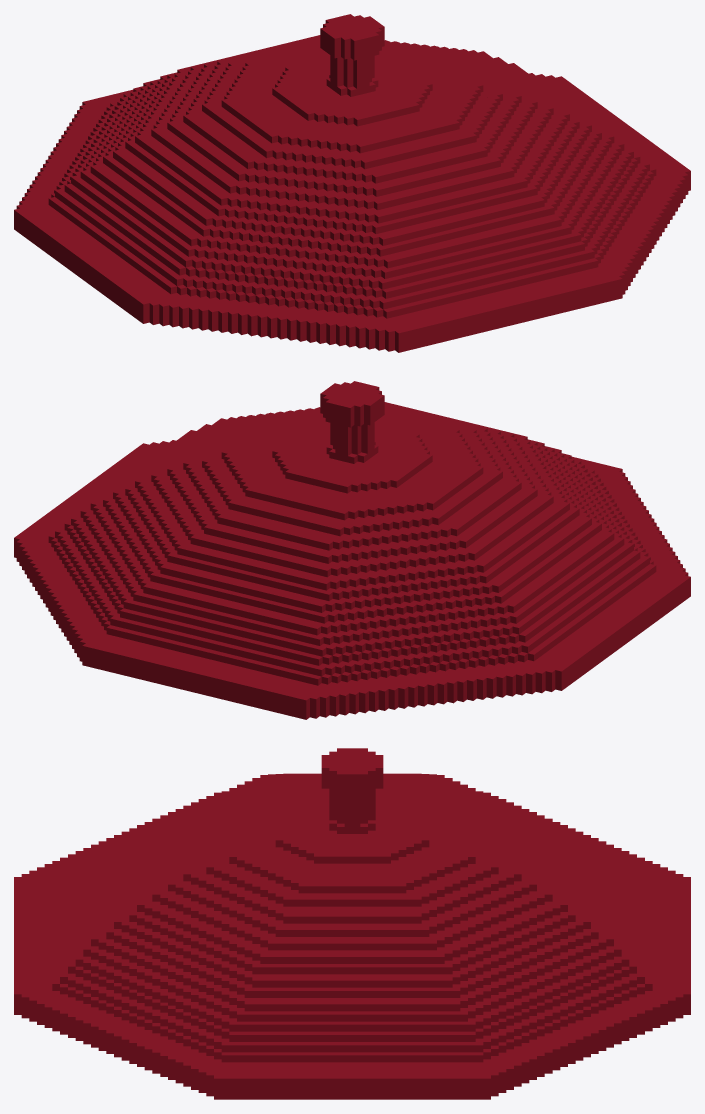
Rendered from zucchetto.glb.
3 views of the same model, one above another, from view 1: azimuth 30°, elevation 25°; view 2: azimuth 150°, elevation 25°; view 3: azimuth 270°, elevation 25° (orthographic). The views are drawn at different scales.
Visible parts, largest first — view 1: zucchetto:compound; view 2: zucchetto:compound; view 3: zucchetto:compound.
Part boxes in pixels (left/top/right/bottom): zucchetto:compound: left=14, top=14, right=690, bottom=352; zucchetto:compound: left=14, top=381, right=690, bottom=719; zucchetto:compound: left=14, top=748, right=690, bottom=1099.
Bounding box in the file's own units: 0.176 × 0.056 × 0.176.
